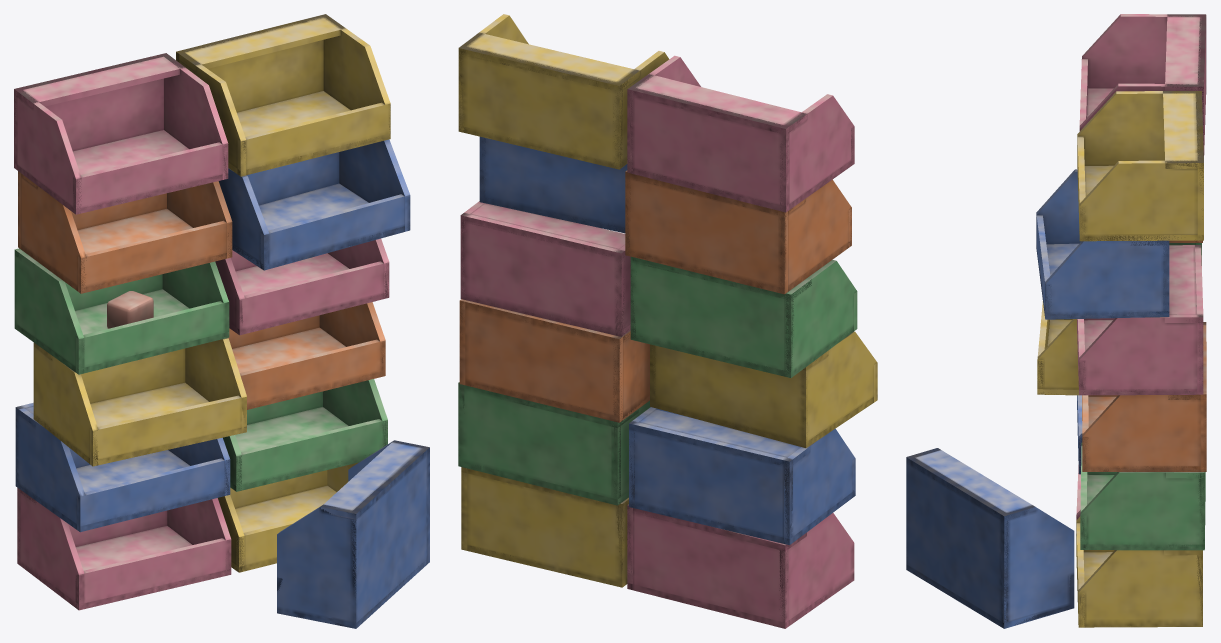
File: cubbies.fbx
3 renders of one model, left to right at view 1: azimuth 30°, elevation 25°; view 2: azimuth 150°, elevation 25°; view 3: azimuth 270°, elevation 25°, orthographic. The views are drawn at different scales.
Visible parts, largest first — view 1: Body; view 2: Body; view 3: Body.
Boxes of the visible parts, bbox=[...] form: Body: bbox=[14, 14, 429, 628]; Body: bbox=[458, 14, 877, 628]; Body: bbox=[906, 14, 1206, 628].
Size of the model in its own units: 4.63 by 6.6 by 3.87.
1 material, 1 textured.
